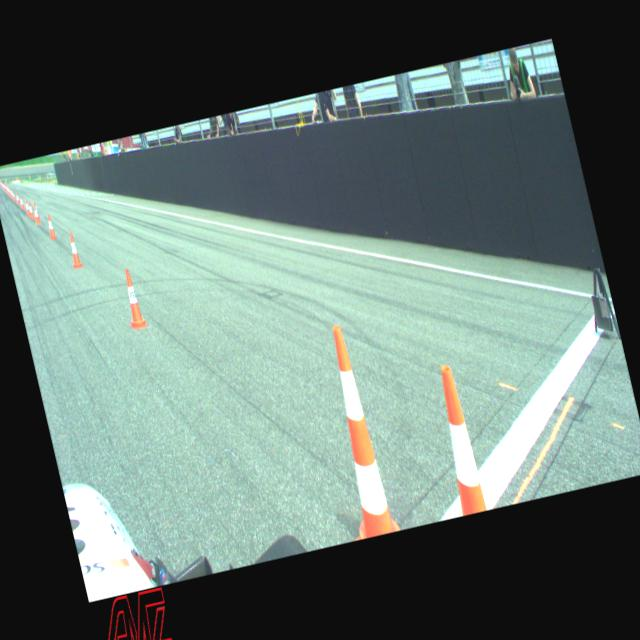large_orange_cone: (306, 320, 408, 540), (428, 360, 486, 514)
orange_cone: (118, 267, 148, 330), (66, 231, 82, 268), (44, 214, 56, 238), (31, 202, 41, 225), (26, 200, 35, 220), (32, 198, 40, 218), (22, 198, 30, 216), (18, 193, 24, 210), (14, 191, 20, 204), (10, 190, 16, 202), (8, 188, 13, 198)
